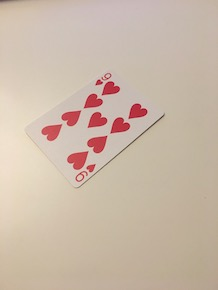NineOfHearts: (24, 64, 166, 191)
